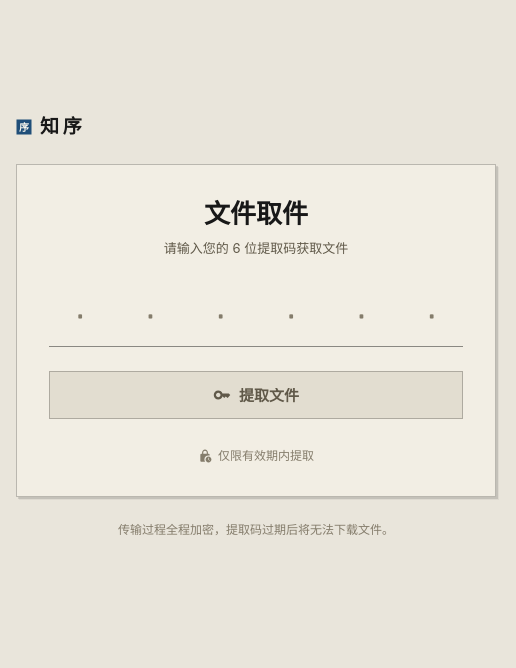
Scenario: file pickup › swaps the entry card for a result card on a successful pickup
This screenshot has width=516, height=668.
Step 1. Type "A" into the 1st field with placeholder "·" → coordinates (80, 318), box [49, 290, 111, 346]
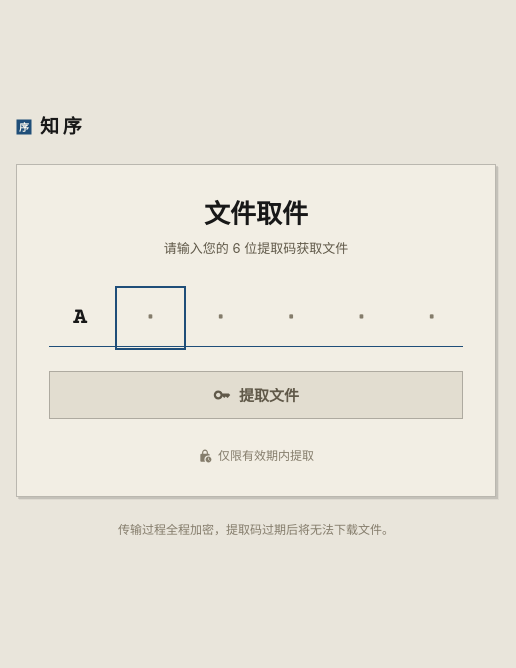
Step 2. Type "B" into the 1st field with placeholder "·" → coordinates (150, 318), box [119, 290, 182, 346]
Step 3. Type "1" into the 1st field with placeholder "·" → coordinates (221, 318), box [190, 290, 252, 346]
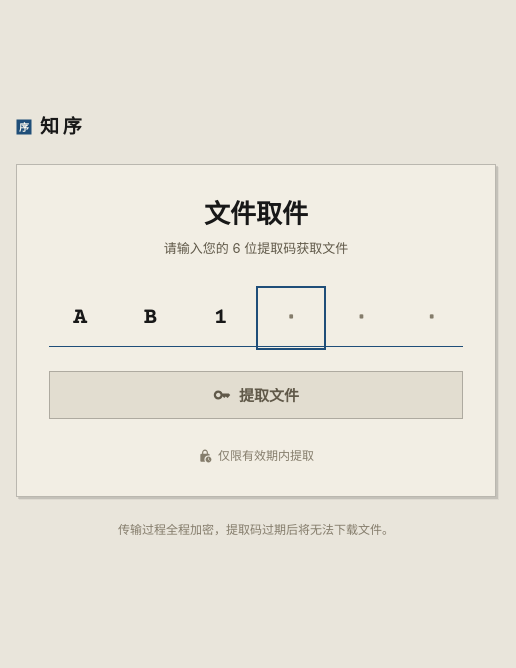
Step 4. Type "2" into the 1st field with placeholder "·" → coordinates (291, 318), box [260, 290, 322, 346]
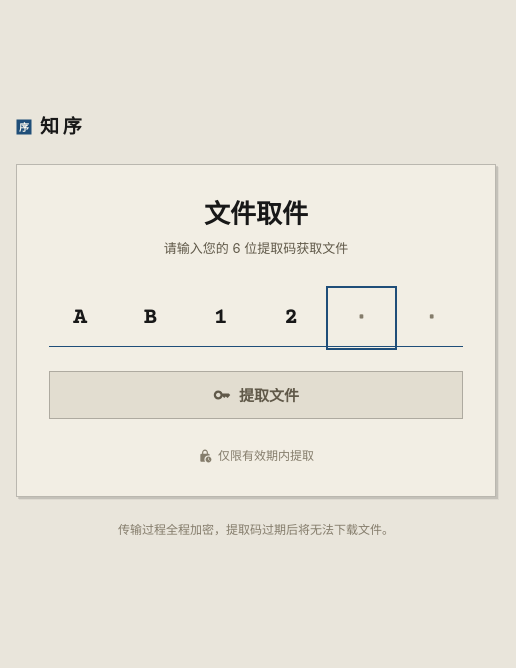
Step 5. Type "C" into the 1st field with placeholder "·" → coordinates (361, 318), box [330, 290, 393, 346]
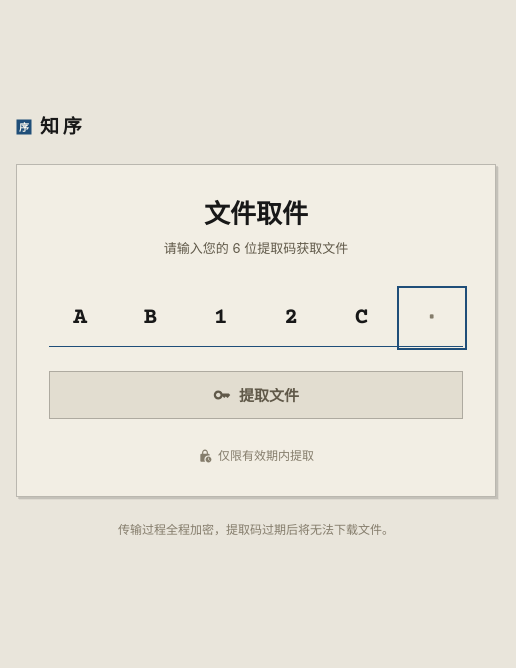
Step 6. Type "D" into the field with placeholder "·" → coordinates (432, 318), box [401, 290, 463, 346]
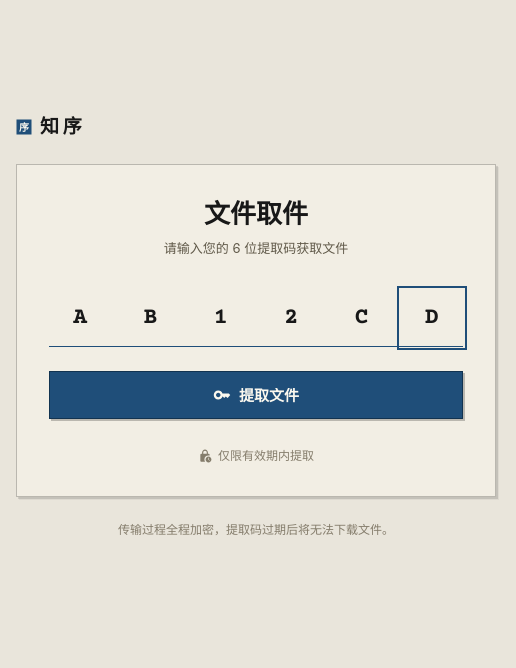
Step 7. Click the button with aria-label "提取文件" → coordinates (256, 395), box [49, 371, 463, 419]
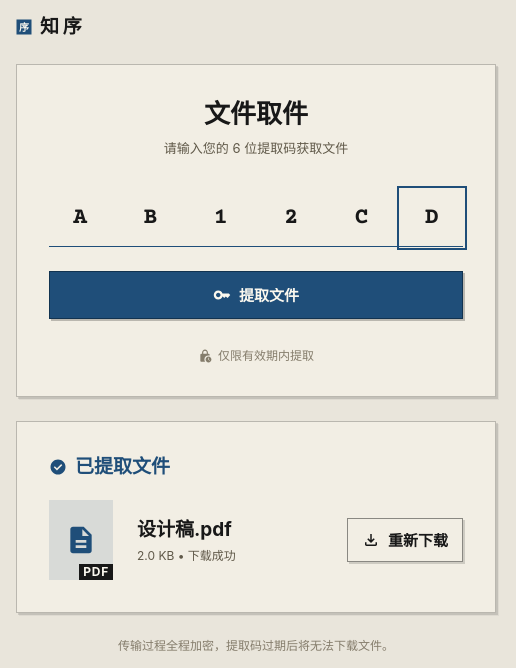
Check: the text "已提取文件" is shown, box [75, 454, 170, 480]
Check: the text "设计稿.pdf" is shown, box [137, 518, 232, 540]
Check: the button with aria-label "重新下载文件" is shown, box [347, 518, 463, 562]
